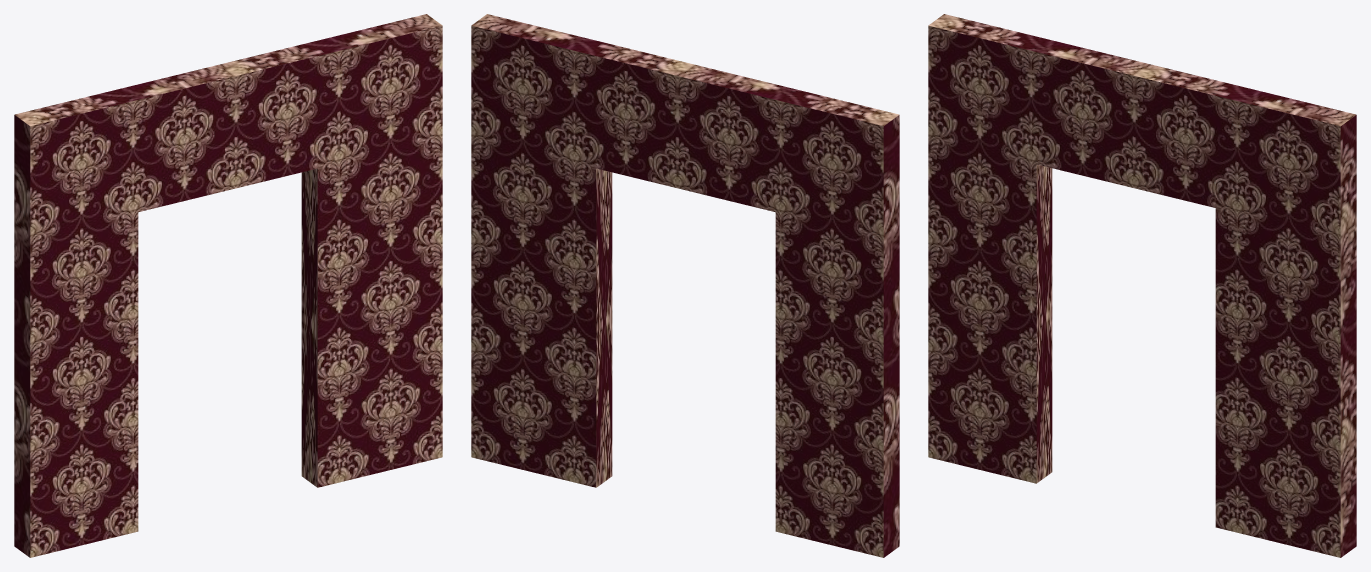
The model's file is WallForDoor_1.fbx.
3 views of the same model, side by side, from view 1: azimuth 30°, elevation 25°; view 2: azimuth 150°, elevation 25°; view 3: azimuth 330°, elevation 25° (orthographic).
Parts seen in each view (by area): view 1: WallForDoor_1; view 2: WallForDoor_1; view 3: WallForDoor_1.
Boxes of the visible parts, x1,y1,x2,y2 form: WallForDoor_1: [14, 14, 442, 557]; WallForDoor_1: [471, 14, 899, 557]; WallForDoor_1: [928, 14, 1356, 557].
Bounding box in the file's own units: 600 × 600 × 40.
